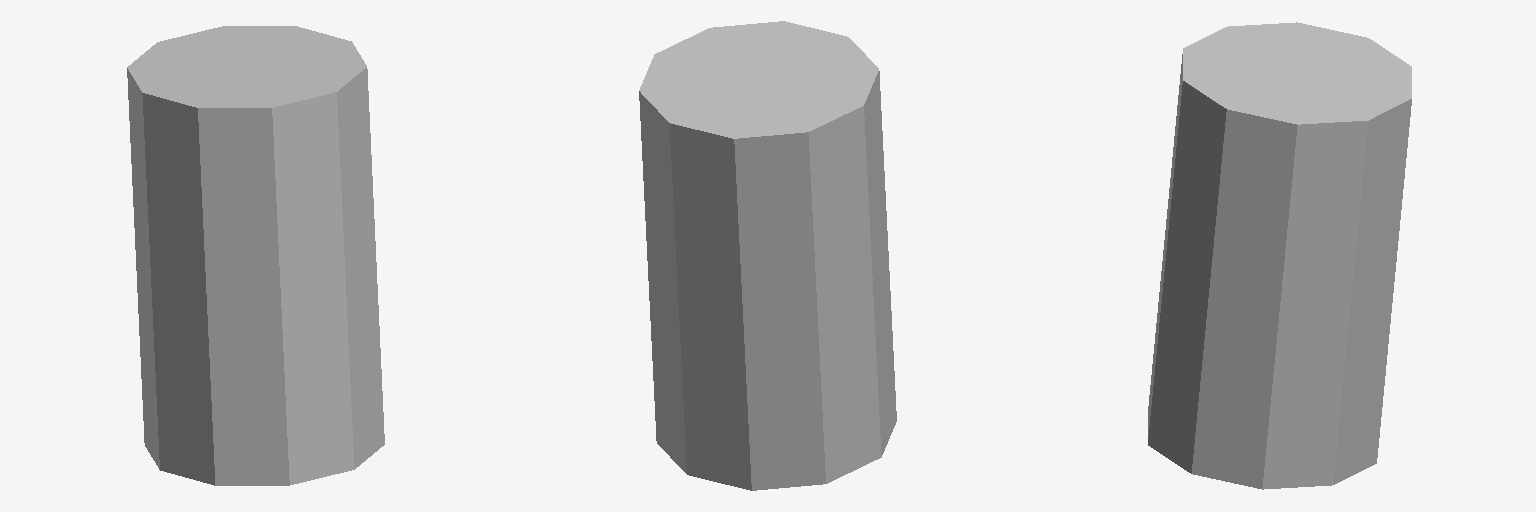
Rendered from player_leg_left_1.obj.
The picture shows the model from 3 angles: view 1: azimuth 30°, elevation 25°; view 2: azimuth 150°, elevation 25°; view 3: azimuth 270°, elevation 25°; orthographic projection.
Parts seen in each view (by area): view 1: player:leg_left_1; view 2: player:leg_left_1; view 3: player:leg_left_1.
Boxes of the visible parts, x1=… form: player:leg_left_1: x1=127, y1=26, x2=384, y2=485; player:leg_left_1: x1=639, y1=21, x2=896, y2=490; player:leg_left_1: x1=1148, y1=22, x2=1411, y2=489.
Size of the model in its own units: 0.2 by 0.3493 by 0.2186.